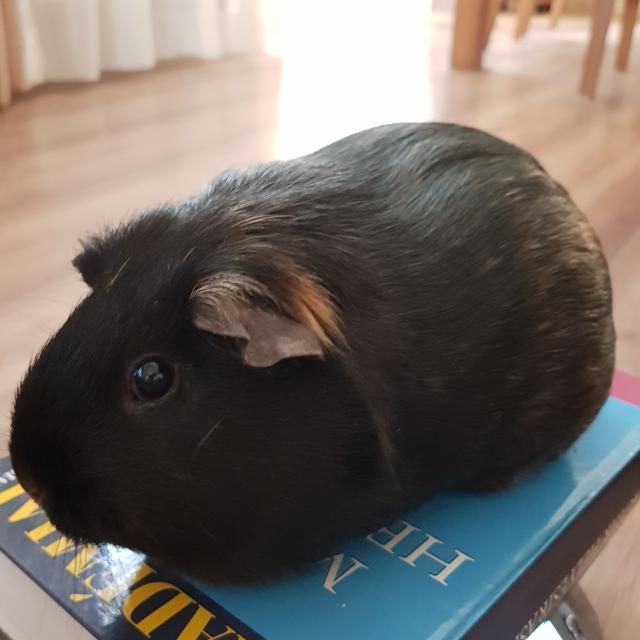guinea pig: (2, 119, 622, 592)
